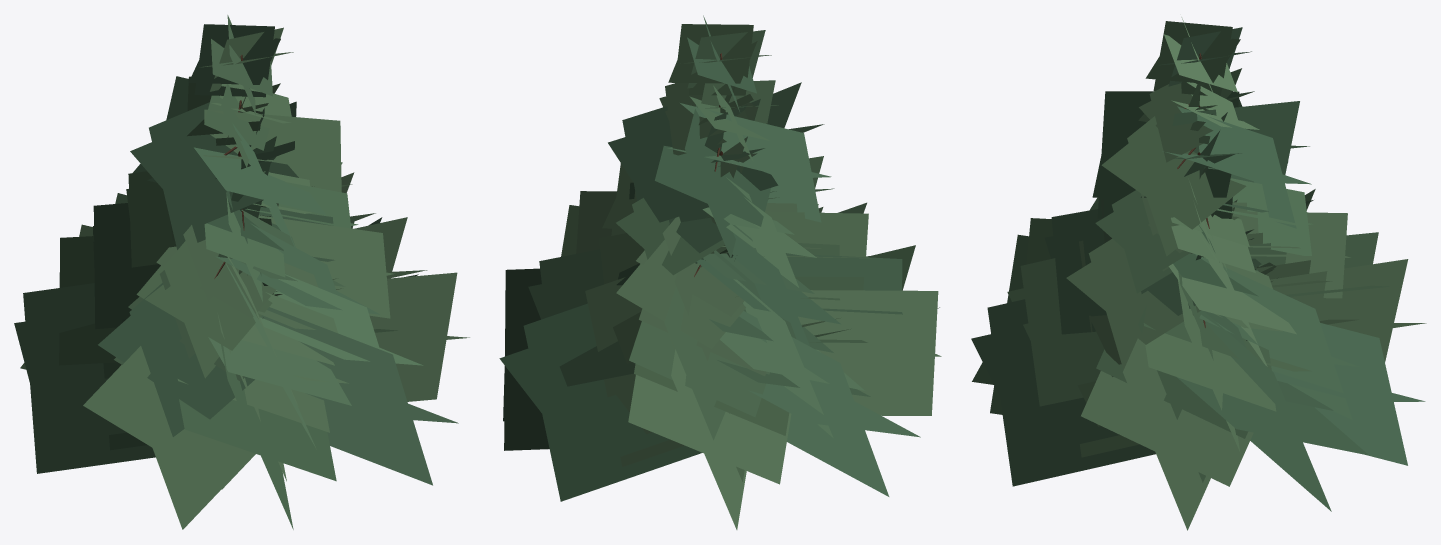
File: conifer_lod1.glb
3 views of the same model, side by side, from view 1: azimuth 30°, elevation 25°; view 2: azimuth 150°, elevation 25°; view 3: azimuth 270°, elevation 25° (orthographic).
Visible parts, largest first — view 1: conifer_lod1; view 2: conifer_lod1; view 3: conifer_lod1.
Boxes of the visible parts, bbox=[...] form: conifer_lod1: bbox=[14, 15, 469, 529]; conifer_lod1: bbox=[499, 15, 941, 529]; conifer_lod1: bbox=[971, 17, 1426, 530].
Bounding box in the file's own units: 0.9991 × 1 × 1.
